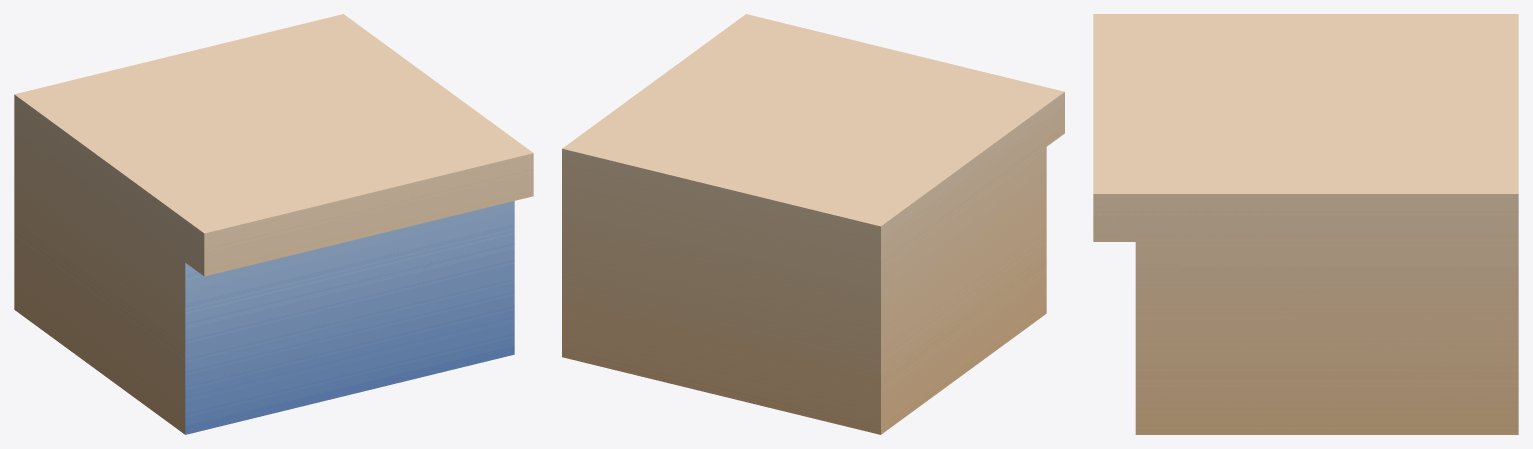
The picture shows the model from 3 angles, left to right: view 1: azimuth 30°, elevation 25°; view 2: azimuth 150°, elevation 25°; view 3: azimuth 270°, elevation 25°; orthographic projection. The views are drawn at different scales.
Visible parts, largest first — view 1: building-window-large-middle; view 2: building-window-large-middle; view 3: building-window-large-middle.
Boxes of the visible parts, left/top/right/bottom form: building-window-large-middle: left=14, top=14, right=533, bottom=434; building-window-large-middle: left=562, top=14, right=1064, bottom=434; building-window-large-middle: left=1093, top=14, right=1518, bottom=434.
Bounding box in the file's own units: 1 × 0.625 × 1.
Materials: 1 (1 with a texture image).
